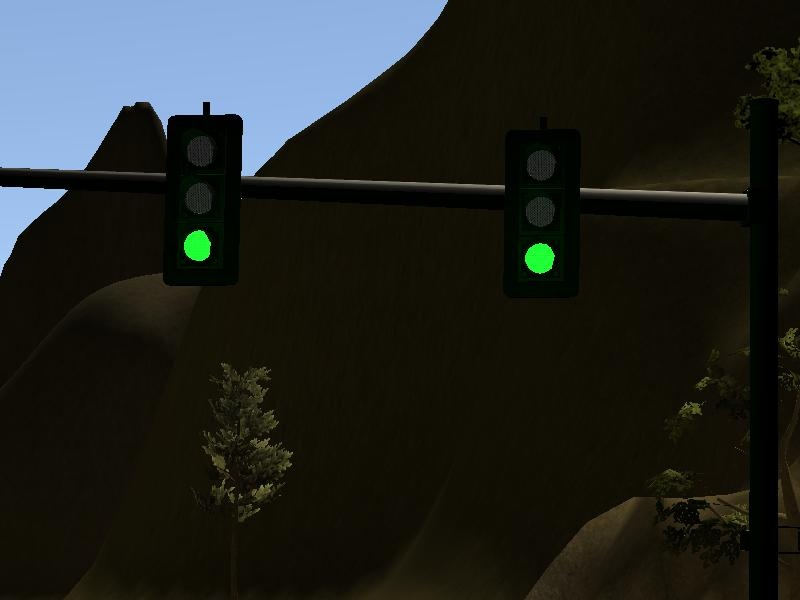green: (158, 103, 247, 286), (500, 118, 583, 302)
